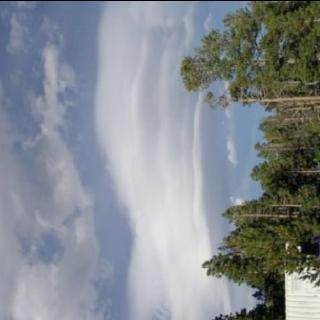Altocumulus: (0, 0, 256, 320)
